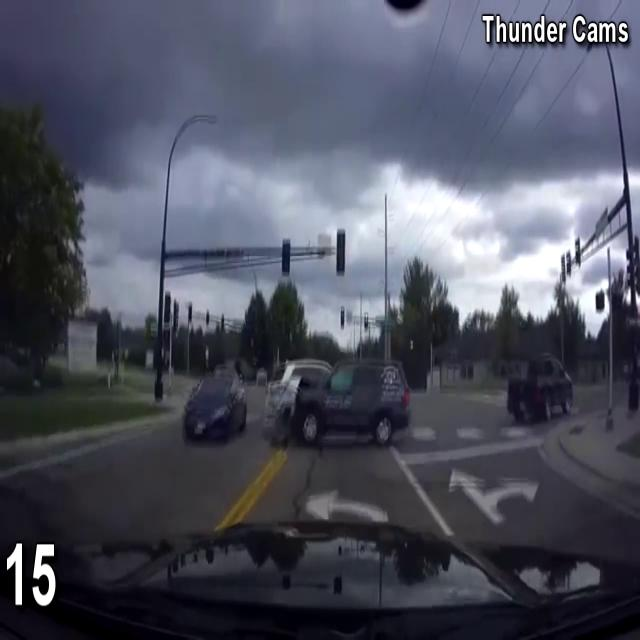accident: (267, 329, 426, 459)
